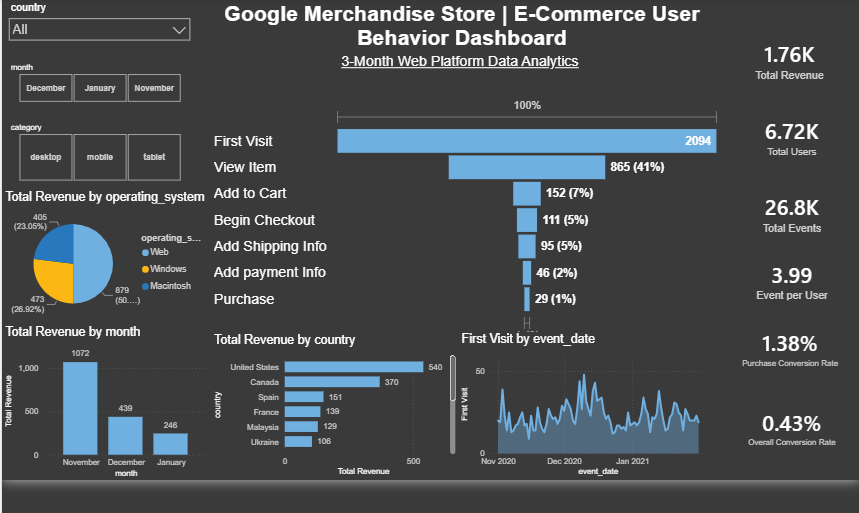

What the dashboard file says about the page in this screenshot:
{"tool":"powerbi","page":{"name":"Overview","canvas":[1280,720],"ordinal":0},"visuals":[{"type":"cardVisual","fields":{"Data":["DAXs.Total Users"]},"box":[1076.3,149.5,203.7,114.8],"z":0},{"type":"funnel","fields":{"Y":["DAXs.First Visit","DAXs.View Item","DAXs.Add to Cart","DAXs.Begin Checkout","DAXs.Add Shipping Info","DAXs.Add payment Info","DAXs.Purchase"]},"box":[311.1,144.4,764.8,375.9],"z":1000},{"type":"cardVisual","title":"jvbjjjvb,j","fields":{"Data":["DAXs.Total Revenue"]},"box":[1072.6,29.8,203.3,125],"z":2000},{"type":"cardVisual","fields":{"Data":["DAXs.Conversation Rate"]},"box":[1076.3,569.9,203.7,137],"z":3000},{"type":"cardVisual","fields":{"Data":["DAXs.Purchase Conversation Rate"]},"box":[1070.7,471.7,209.3,98.1],"z":4000},{"type":"cardVisual","fields":{"Data":["DAXs.Total Events"]},"box":[1076.3,271.7,203.7,96.3],"z":5000},{"type":"cardVisual","fields":{"Data":["DAXs.Event per User"]},"box":[1076.3,373.6,203.7,96.3],"z":6000},{"type":"barChart","fields":{"Category":["event_timestamp.country"],"Y":["DAXs.Total Revenue"]},"box":[311.1,500,370.4,218.5],"z":7000},{"type":"slicer","fields":{"Values":["event_timestamp.category"]},"box":[0,180.5,290.7,98.2],"z":8000},{"type":"slicer","fields":{"Values":["event_timestamp.country"]},"box":[0,0,290.7,72.2],"z":9000},{"type":"stackedAreaChart","fields":{"Category":["event_timestamp.event_date Hierarchy.event_date"],"Y":["DAXs.First Visit"]},"box":[681.5,498.2,388.9,220.4],"z":10000},{"type":"textbox","box":[296.6,0,779.7,128.7],"z":11000},{"type":"slicer","fields":{"Values":["event_timestamp.MOUNTH"]},"box":[0,92.2,290.7,70.2],"z":12000},{"type":"clusteredColumnChart","fields":{"Y":["DAXs.Total Revenue"],"Category":["event_timestamp.MOUNTH"]},"box":[0,486.6,312,233.5],"z":13000},{"type":"pieChart","fields":{"Category":["event_timestamp.operating_system"],"Y":["DAXs.Total Revenue"]},"box":[0,284.5,312,202.1],"z":14000}]}

Visuals, with their boxes on the page's 1280x720 design canvas (x1, y1, x2, y2). These are canvas units, not pixel positions in the 859x513 screenshot, which may show the page scaled, cropped or inside an application window:
cardVisual - DAXs.Total Users: bbox(1076, 150, 1280, 264)
funnel - DAXs.First Visit x DAXs.View Item: bbox(311, 144, 1076, 520)
"jvbjjjvb,j" cardVisual: bbox(1073, 30, 1276, 155)
cardVisual - DAXs.Conversation Rate: bbox(1076, 570, 1280, 707)
cardVisual - DAXs.Purchase Conversation Rate: bbox(1071, 472, 1280, 570)
cardVisual - DAXs.Total Events: bbox(1076, 272, 1280, 368)
cardVisual - DAXs.Event per User: bbox(1076, 374, 1280, 470)
barChart - event_timestamp.country x DAXs.Total Revenue: bbox(311, 500, 682, 718)
slicer - event_timestamp.category: bbox(0, 180, 291, 279)
slicer - event_timestamp.country: bbox(0, 0, 291, 72)
stackedAreaChart - event_timestamp.event_date Hierarchy.event_date x DAXs.First Visit: bbox(682, 498, 1070, 719)
textbox: bbox(297, 0, 1076, 129)
slicer - event_timestamp.MOUNTH: bbox(0, 92, 291, 162)
clusteredColumnChart - DAXs.Total Revenue x event_timestamp.MOUNTH: bbox(0, 487, 312, 720)
pieChart - event_timestamp.operating_system x DAXs.Total Revenue: bbox(0, 284, 312, 487)
